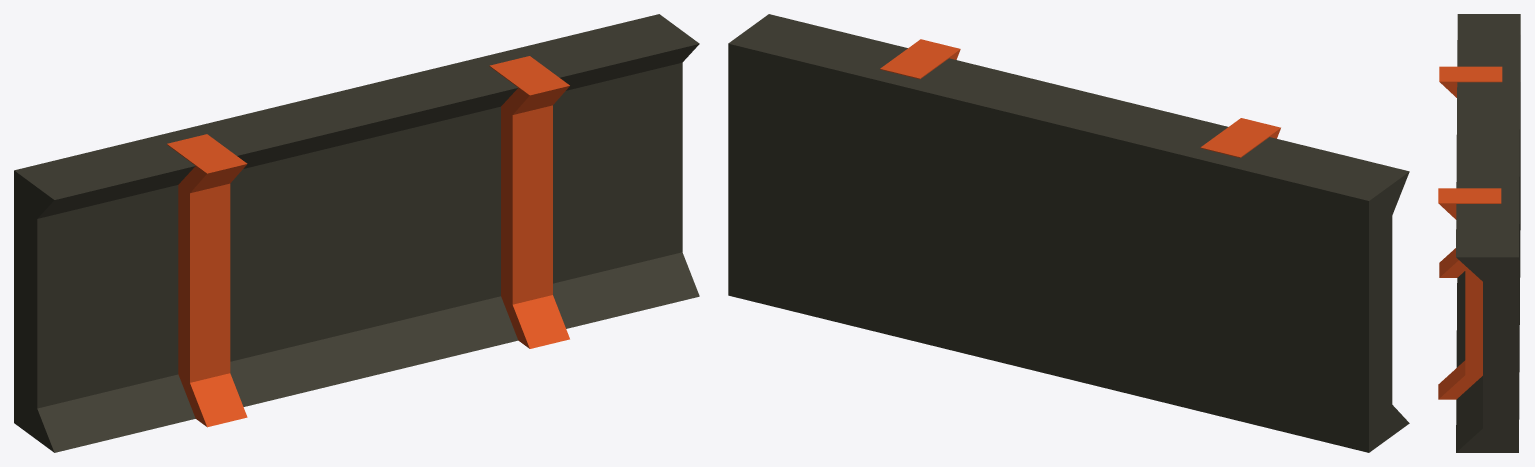
Rendered from WallShort.fbx.
The picture shows the model from 3 angles, left to right: view 1: azimuth 30°, elevation 25°; view 2: azimuth 150°, elevation 25°; view 3: azimuth 270°, elevation 25°; orthographic projection. The views are drawn at different scales.
Visible parts, largest first — view 1: WallSmall; view 2: WallSmall; view 3: WallSmall.
Part boxes in pixels (left/top/right/bottom): WallSmall: left=14, top=14, right=699, bottom=452; WallSmall: left=728, top=14, right=1409, bottom=452; WallSmall: left=1438, top=14, right=1520, bottom=452.
Bounding box in the file's own units: 800 × 301 × 114.
